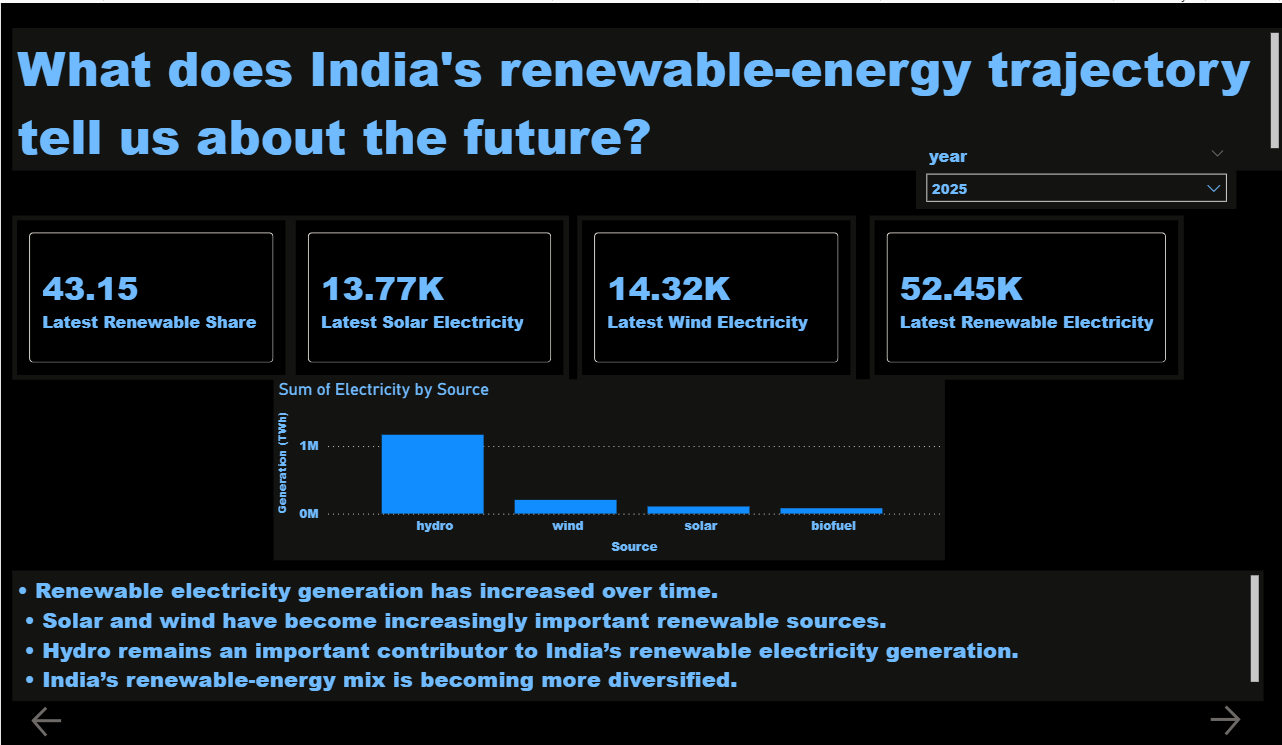

The dashboard page shown, as its layout file describes it:
{"tool":"powerbi","page":{"name":"INSIGHTS","canvas":[1280,720],"ordinal":4},"visuals":[{"type":"textbox","box":[10.9,0,1269.5,142.8],"z":0},{"type":"slicer","fields":{"Values":["owid-energy-data.year"]},"box":[913.8,111.3,320.1,69.6],"z":1000},{"type":"cardVisual","fields":{"Data":["Energy Mix.Latest Renewable Share"]},"box":[10.9,187,278.7,164.1],"z":2000},{"type":"cardVisual","fields":{"Data":["Energy Mix.Latest Solar Electricity"]},"box":[289.5,187,277.5,164.1],"z":3000},{"type":"cardVisual","fields":{"Data":["Energy Mix.Latest Wind Electricity"]},"box":[575.5,187,278.7,164.1],"z":4000},{"type":"cardVisual","fields":{"Data":["owid-energy-data.Latest Renewable Electricity"]},"box":[867.4,187,313.7,164.1],"z":5000},{"type":"clusteredColumnChart","fields":{"Category":["Energy Mix.Source"],"Y":["Sum(Energy Mix.Electricity)"]},"box":[272.7,351.1,670.8,181],"z":6000},{"type":"textbox","box":[10.9,541.7,1249.9,130.3],"z":7000},{"type":"actionButton","box":[26.5,673.2,100.1,39.8],"z":8000},{"type":"actionButton","box":[1201.6,672,59.1,39.8],"z":9000}]}

Visuals, with their boxes on the page's 1280x720 design canvas (x1, y1, x2, y2). These are canvas units, not pixel positions in the 1282x745 screenshot, which may show the page scaled, cropped or inside an application window:
textbox: bbox=(11, 0, 1280, 143)
slicer - owid-energy-data.year: bbox=(914, 111, 1234, 181)
cardVisual - Energy Mix.Latest Renewable Share: bbox=(11, 187, 290, 351)
cardVisual - Energy Mix.Latest Solar Electricity: bbox=(290, 187, 567, 351)
cardVisual - Energy Mix.Latest Wind Electricity: bbox=(576, 187, 854, 351)
cardVisual - owid-energy-data.Latest Renewable Electricity: bbox=(867, 187, 1181, 351)
clusteredColumnChart - Energy Mix.Source x Sum(Energy Mix.Electricity): bbox=(273, 351, 944, 532)
textbox: bbox=(11, 542, 1261, 672)
actionButton: bbox=(26, 673, 127, 713)
actionButton: bbox=(1202, 672, 1261, 712)
